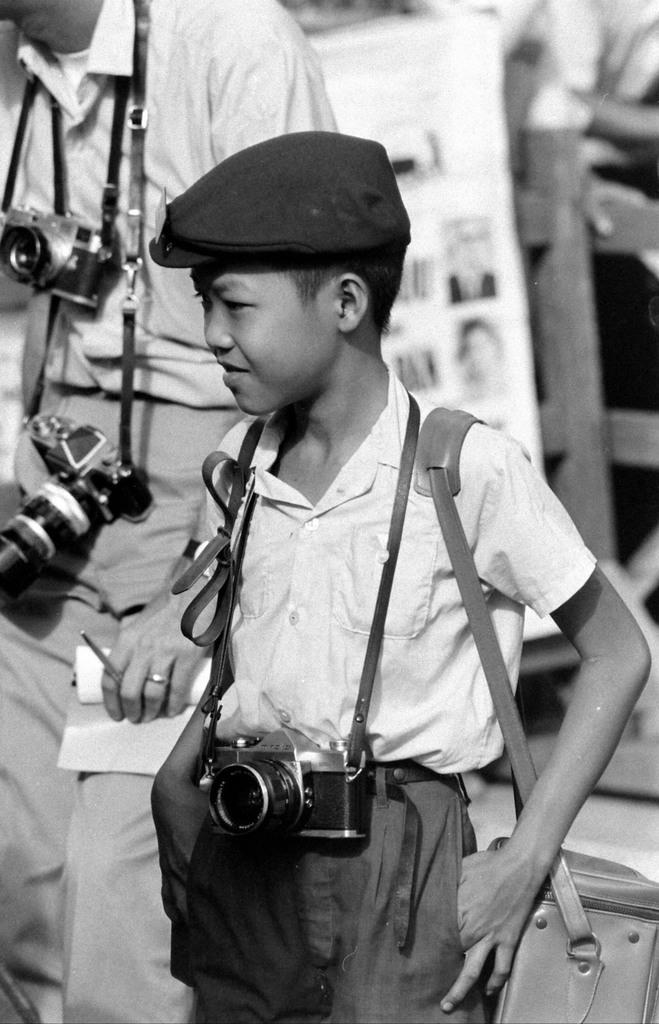Hat: (144, 128, 408, 266)
